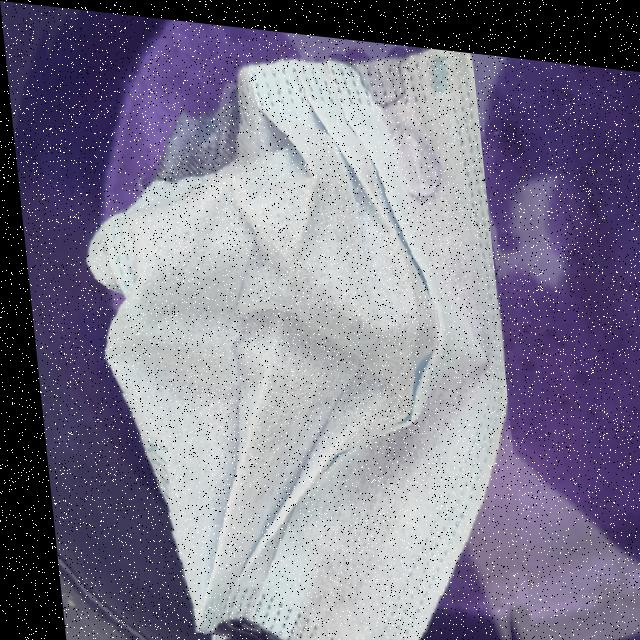mask: (29, 3, 524, 640)
